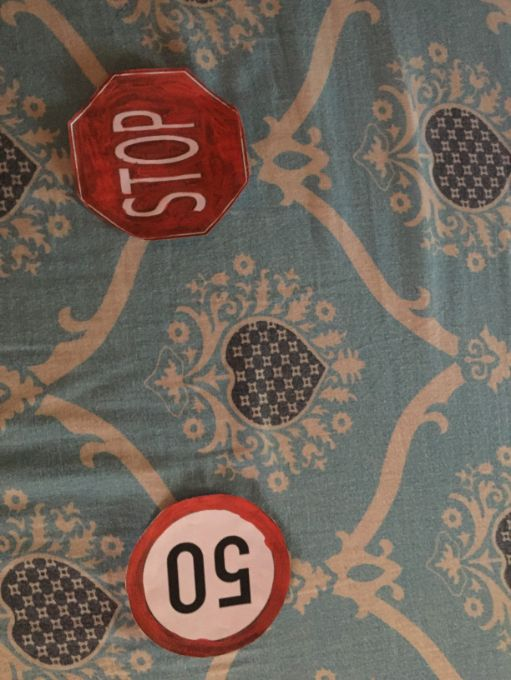speed-50: (126, 495, 288, 657)
stop: (66, 65, 245, 244)
